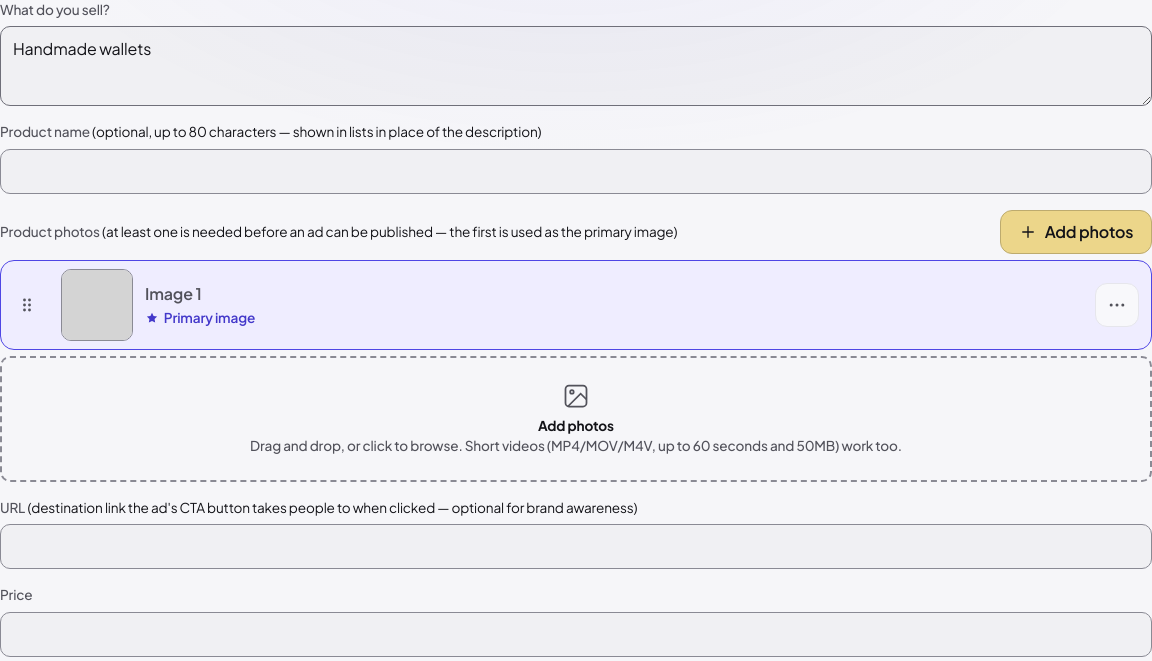
Test: ProductForm — edit mode live photo management › says which campaign uses a photo a published ad needs, and keeps the photo
Click the button named "More actions for Image 1". click: click(1117, 305)
box: left=1095, top=283, right=1139, bottom=327
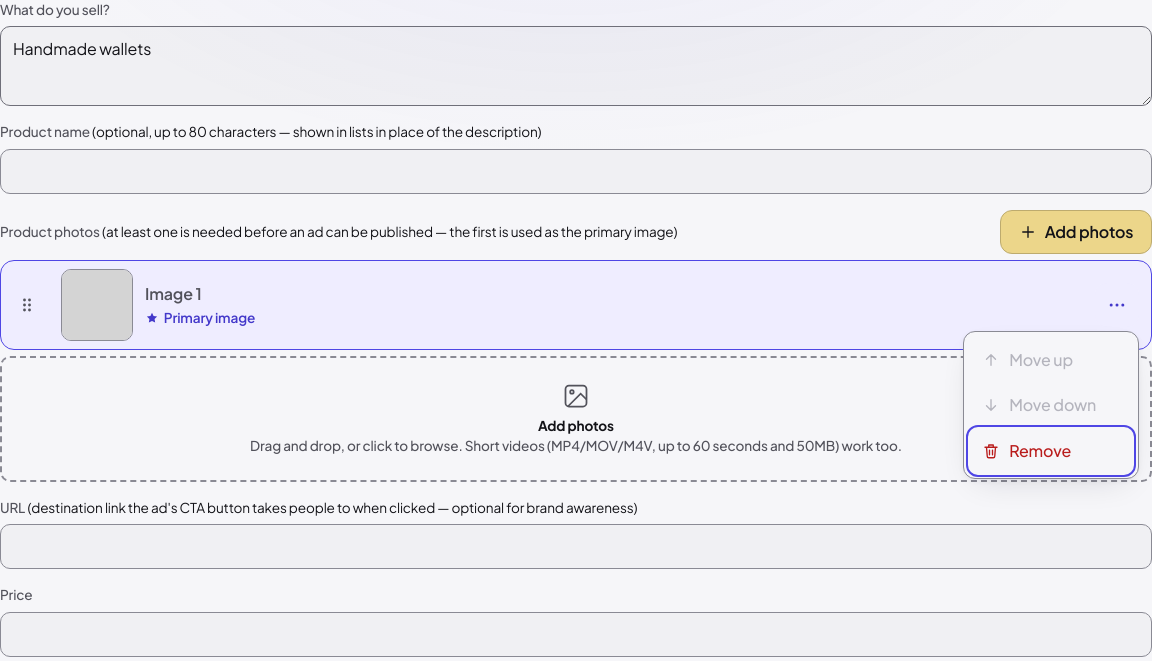
Click the menu item "Remove". click: click(1051, 451)
box: left=970, top=429, right=1132, bottom=473
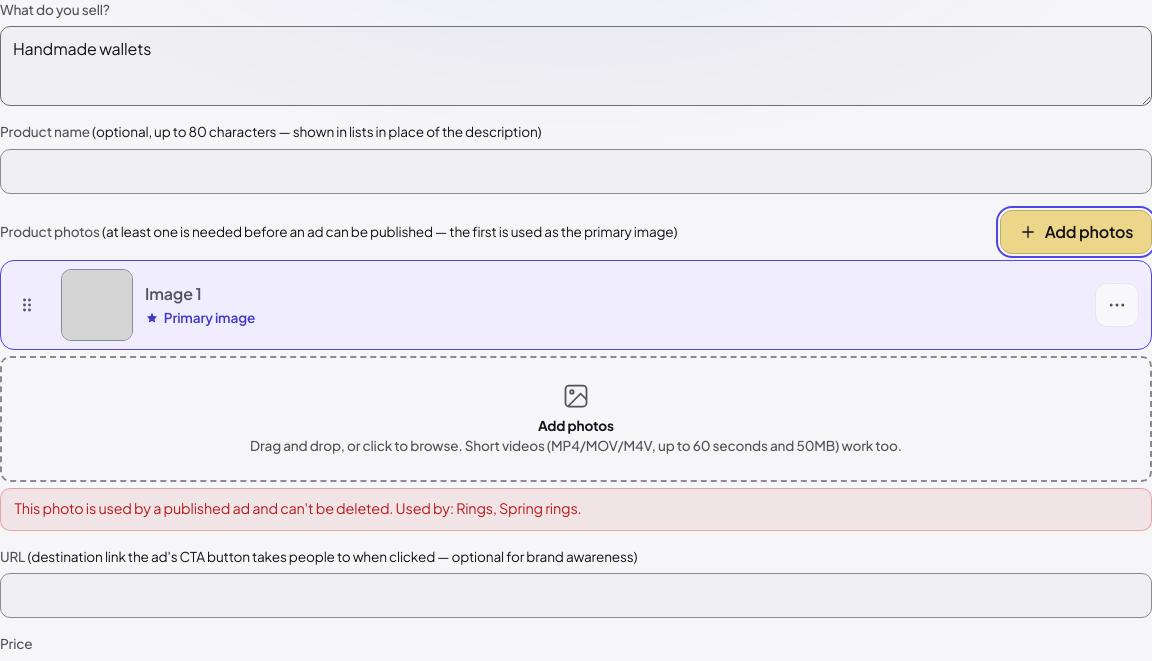
expect the message shows "This photo is used by a published ad and can't be deleted. Used by: Rings, Spring rings.": met, box left=15, top=499, right=582, bottom=517
Click the button named "More actions for Image 1". click: click(1117, 305)
box: left=1095, top=283, right=1139, bottom=327
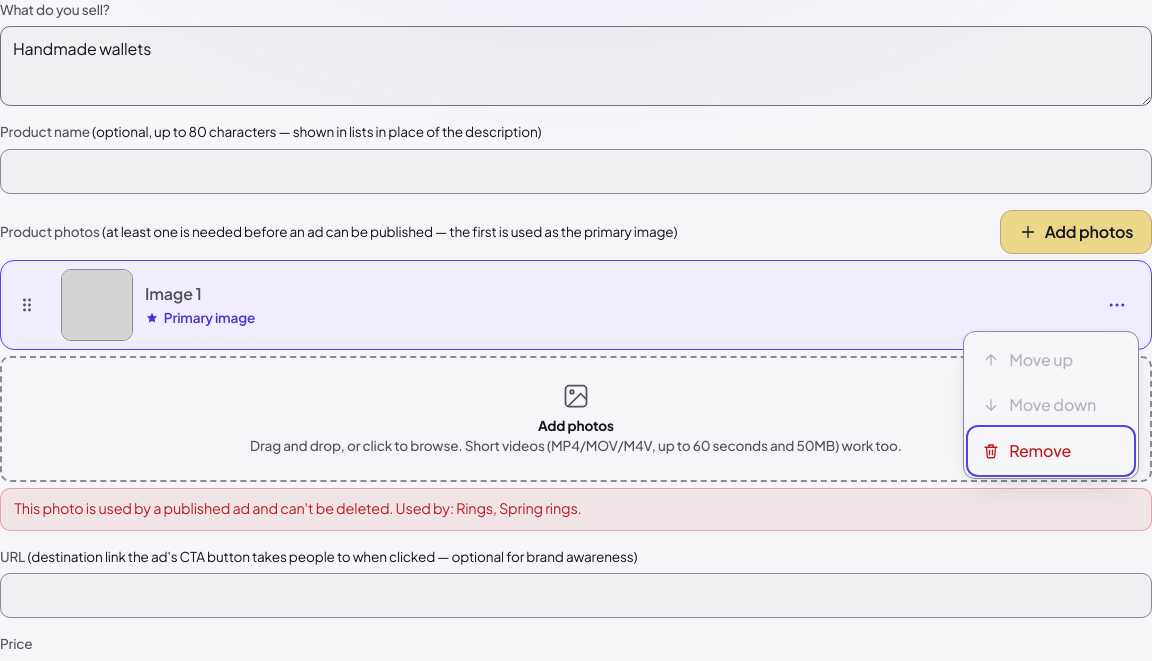
expect the menu item "Remove" is enabled: met, box left=970, top=429, right=1132, bottom=473
